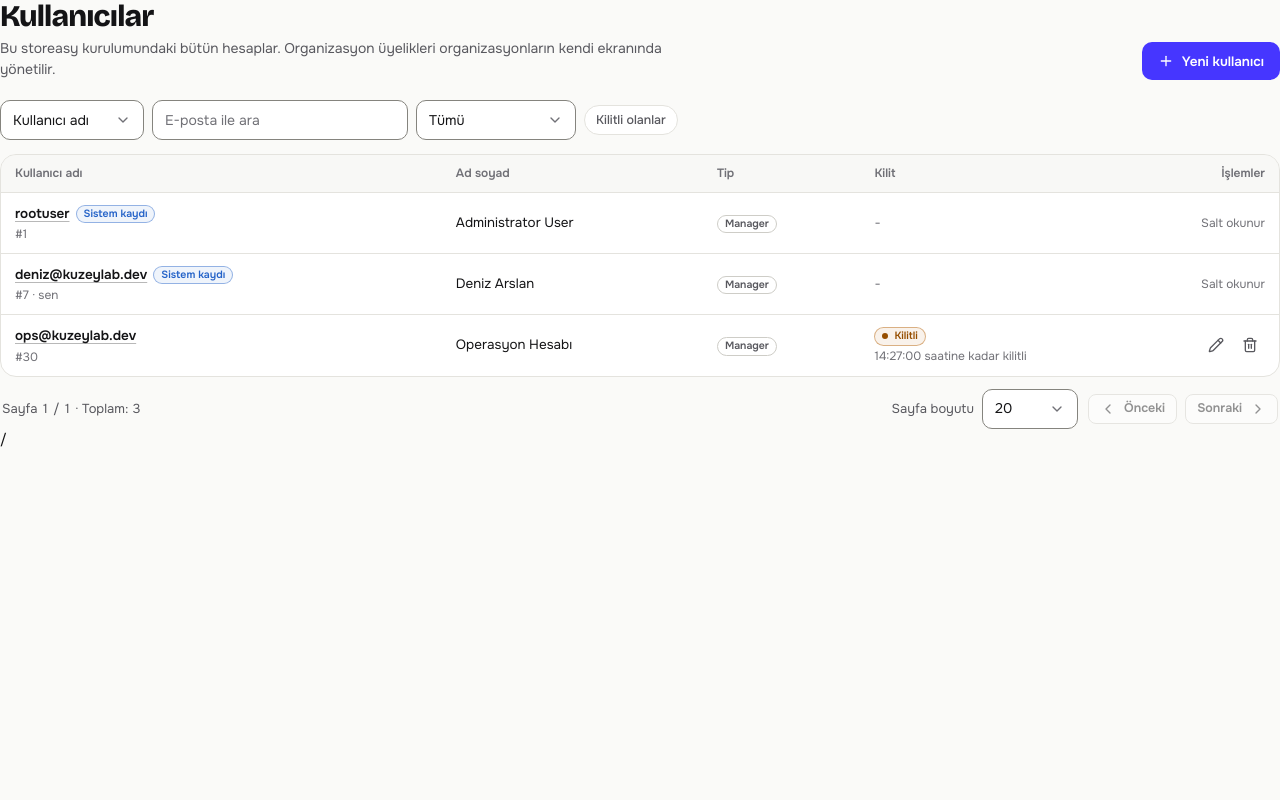
Test case: UsersPage › keeps the form open with the server message on 409
Click the button "Yeni kullanıcı" at (1211, 61), box [1142,42,1279,80]
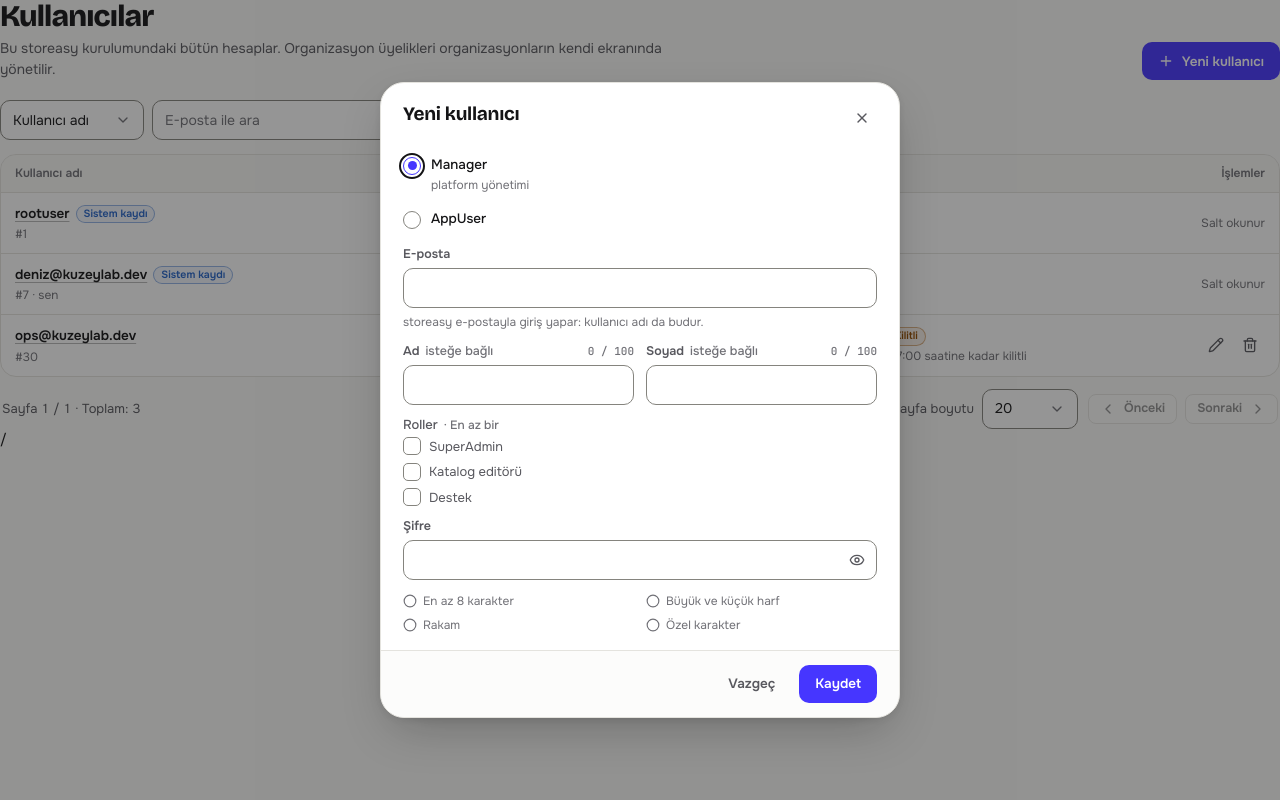
Type "ops@kuzeylab.dev" into the field labelled "E-posta" at (640, 288), box [403,268,877,308]
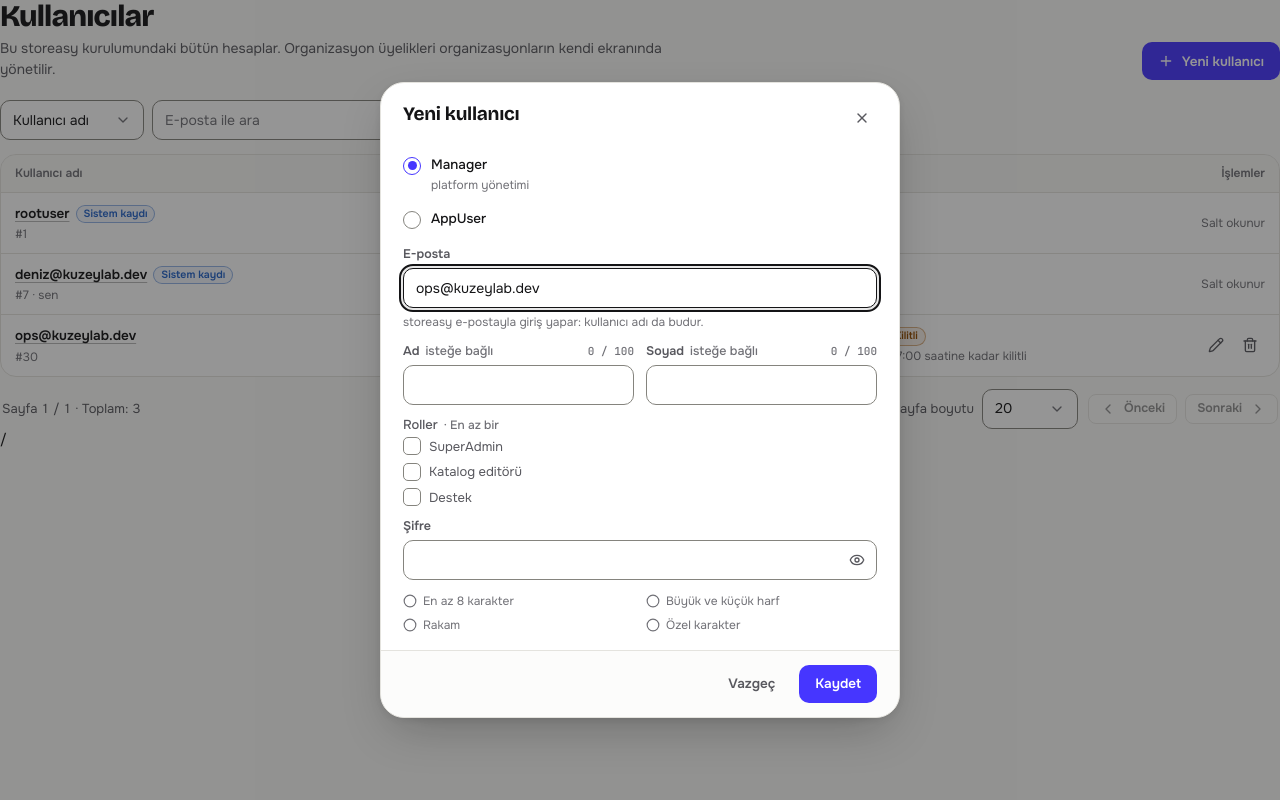
Type "Guclu-Sifre1" into the password field labelled "Şifre" at (625, 560), box [416,541,834,579]
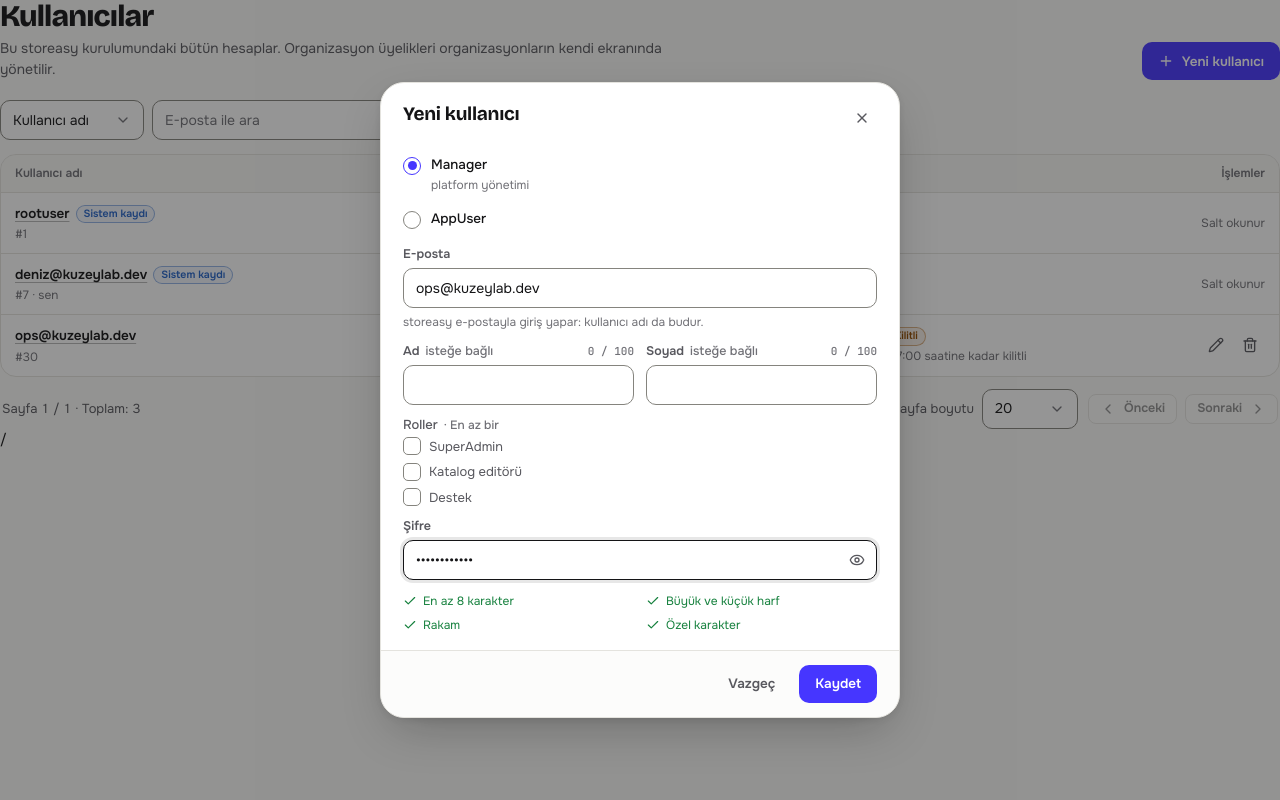
Click the text "Destek" at (450, 497), box [429,488,472,507]
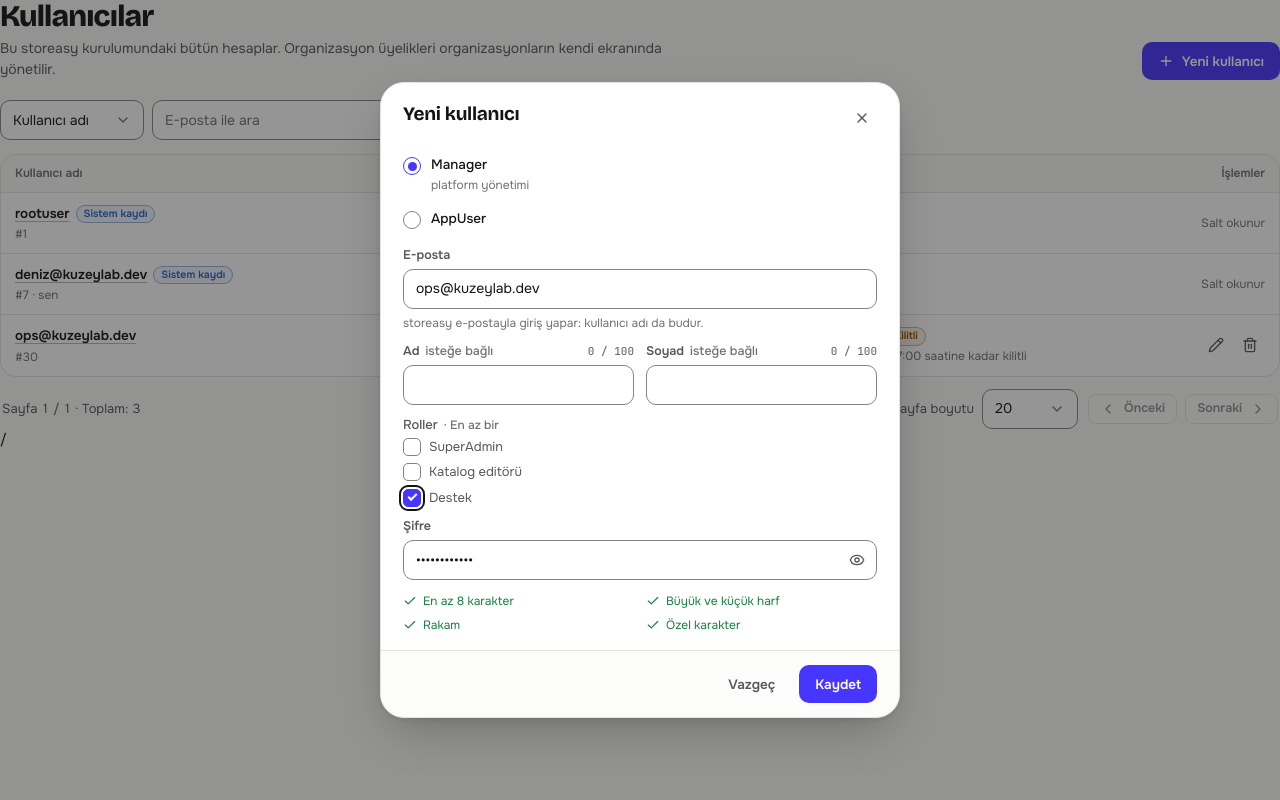
Click the button "Kaydet" at (838, 684), box [799,665,877,703]
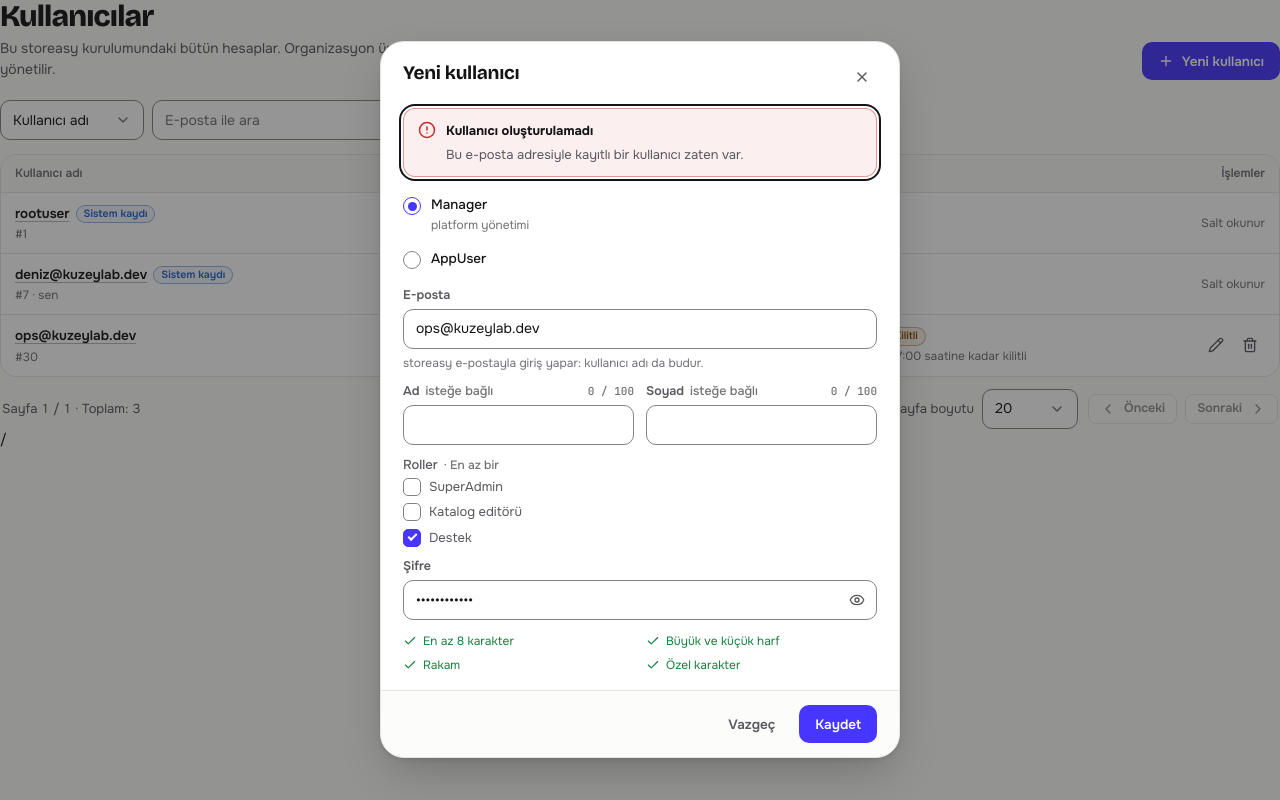
Result: the text "Kullanıcı oluşturulamadı" is shown at [446,122,593,139]
Result: the text "Bu e-posta adresiyle kayıtlı bir kullanıcı zaten var." is shown at [446,145,744,164]
